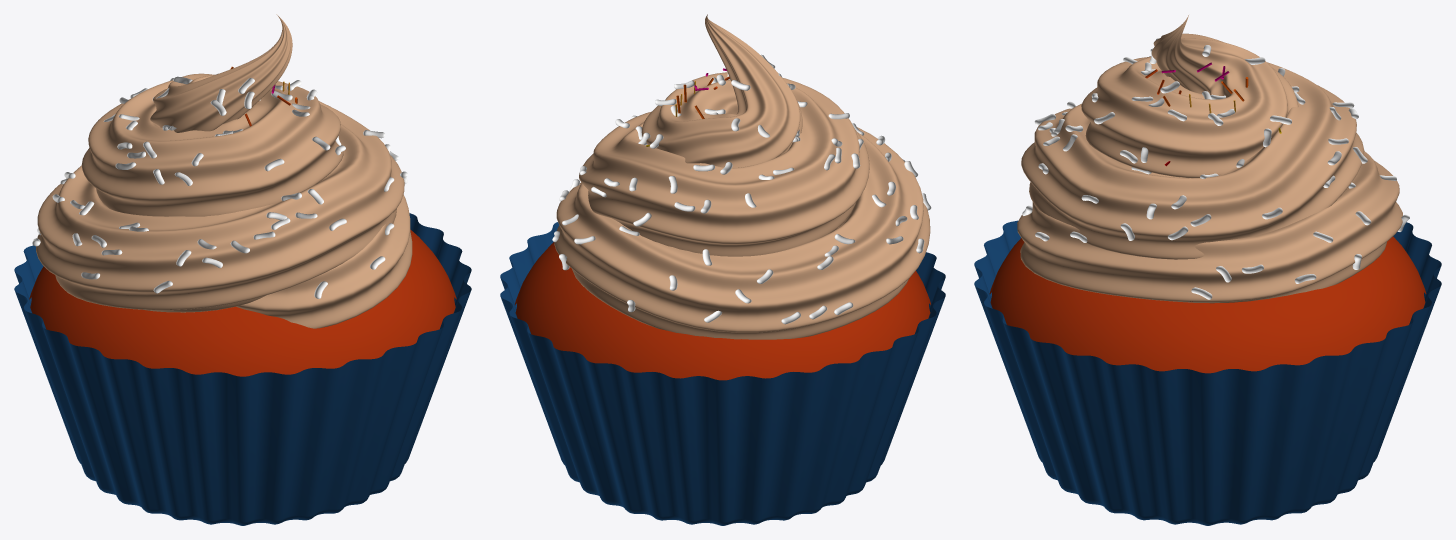
The model's file is cupcake.obj.
3 renders of one model, left to right at view 1: azimuth 30°, elevation 25°; view 2: azimuth 150°, elevation 25°; view 3: azimuth 270°, elevation 25°, orthographic. The views are drawn at different scales.
Visible parts, largest first — view 1: obj45, obj1, obj2; view 2: obj45, obj1, obj2; view 3: obj45, obj1, obj2.
Part boxes in pixels (box(x1,y1,x2,y2)): obj45: box(36, 14, 412, 328); obj1: box(14, 213, 471, 525); obj2: box(29, 229, 456, 376); obj45: box(554, 14, 930, 339); obj1: box(500, 222, 945, 525); obj2: box(515, 242, 930, 380); obj45: box(1017, 15, 1402, 303); obj1: box(974, 220, 1441, 525); obj2: box(989, 236, 1426, 373).
Bounding box in the file's own units: 3.34 × 3.58 × 3.32.
